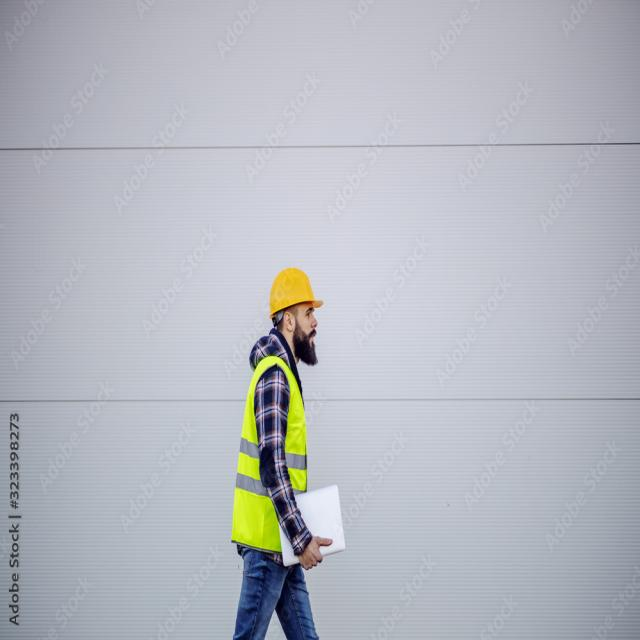helmet: (269, 266, 326, 325)
no-goggles: (285, 307, 322, 325)
vest: (229, 354, 310, 555)
